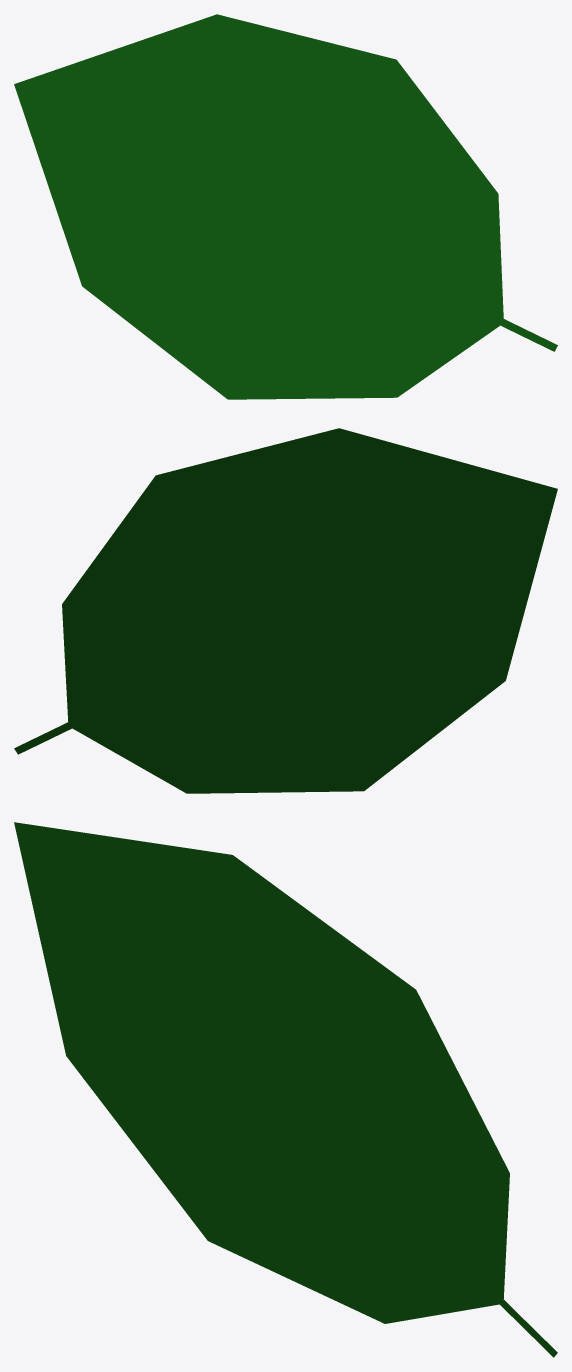
Rendered from Leaves.012.obj.
3 views of the same model, one above another, from view 1: azimuth 30°, elevation 25°; view 2: azimuth 150°, elevation 25°; view 3: azimuth 330°, elevation 25° (orthographic).
Parts seen in each view (by area): view 1: Leaves.012_leaves.012; view 2: Leaves.012_leaves.012; view 3: Leaves.012_leaves.012.
Part boxes in pixels (x1=…): Leaves.012_leaves.012: x1=14, y1=14, x2=557, y2=399; Leaves.012_leaves.012: x1=14, y1=428, x2=557, y2=793; Leaves.012_leaves.012: x1=14, y1=822, x2=557, y2=1357.
Bounding box in the file's own units: 0.1234 × 0.09 × 0.00741.
